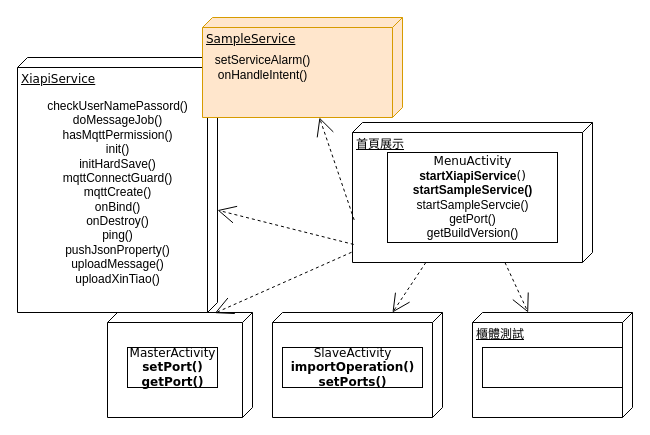
The diagram is 650 pixels wide and 435 high, and some of its shapes have lost their labels. The box of each missing label's shape, as (x1, y1, x2, y2) in pixels:
TestActivity: (482, 346, 622, 388)
主控配置: (106, 312, 252, 418)
副櫃配置: (272, 312, 442, 418)
